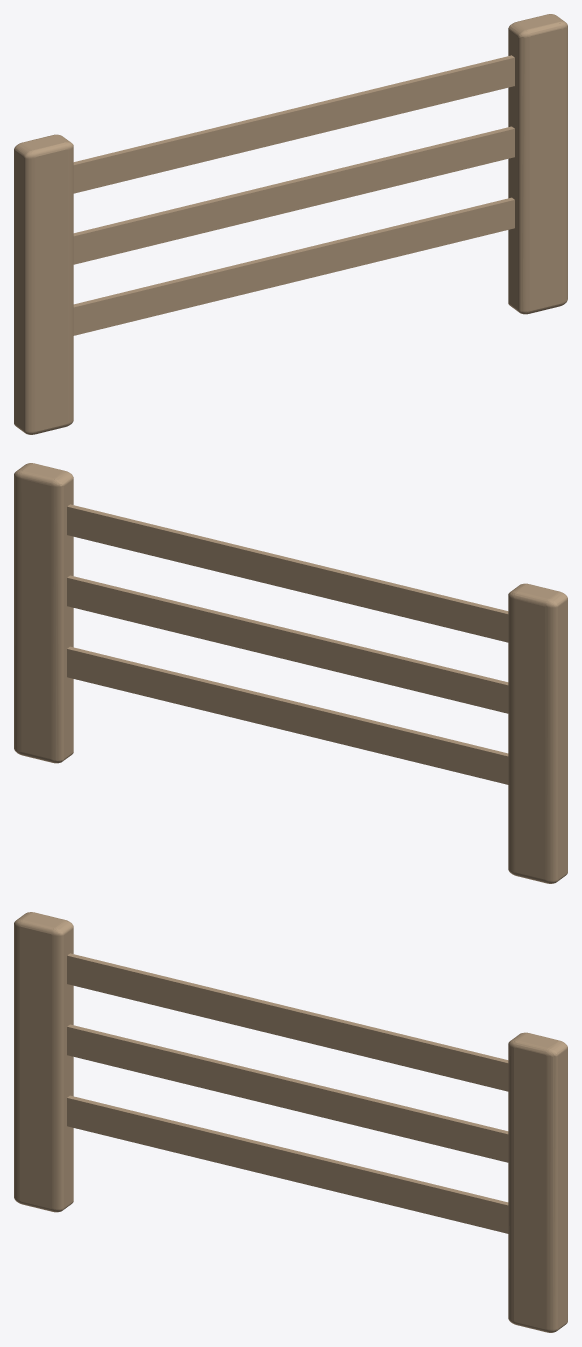
File: fence_1.glb
3 views of the same model, one above another, from view 1: azimuth 30°, elevation 25°; view 2: azimuth 150°, elevation 25°; view 3: azimuth 330°, elevation 25° (orthographic).
Visible parts, largest first — view 1: Mesh_Mesh_head_geo.001_lambert2SG.001; view 2: Mesh_Mesh_head_geo.001_lambert2SG.001; view 3: Mesh_Mesh_head_geo.001_lambert2SG.001.
Boxes of the visible parts, x1,y1,x2,y2 form: Mesh_Mesh_head_geo.001_lambert2SG.001: (14,14,567,434); Mesh_Mesh_head_geo.001_lambert2SG.001: (14,463,567,883); Mesh_Mesh_head_geo.001_lambert2SG.001: (14,912,567,1332).
Size of the model in its own units: 20 by 10 by 0.998.
